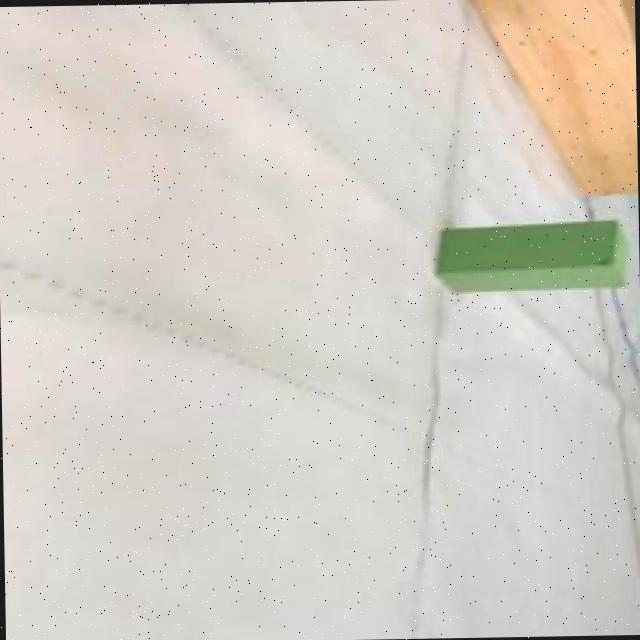greenbox: (436, 216, 632, 294)
